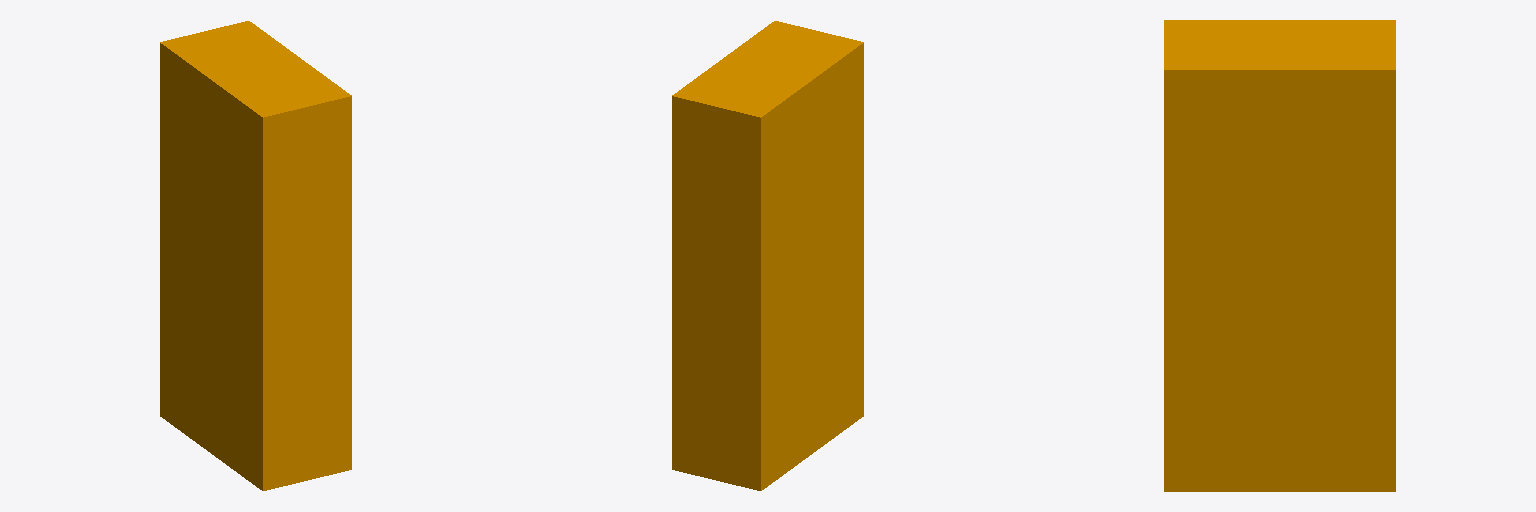
URDF robot description (camera):
<?xml version="1.0" ?>
<robot name="camera">
  <link name="camera__chassis">
    <inertial>
      <mass value="0"/>
      <origin xyz="0 0 0" rpy="0 0 0"/>
      <inertia ixx="0" ixy="0" ixz="0" iyy="0" iyz="0" izz="0"/>
    </inertial>
    <collision name="camera__collision">
      <origin xyz="0  0  0.1" rpy="0 0 0"/>
      <geometry>
        <box size=".1 .2 .4"/>
      </geometry>
    </collision>
    <visual name="camera__visual">
      <origin xyz="0  0  0.1" rpy="0 0 0"/>
      <geometry>
        <box size=".1 .2 .4"/>
      </geometry>
    </visual>
  </link>
</robot>

--- What the picture shows (computed from the rendered views, not written in the file) ---
Views: 3 orthographic renders of the robot side by side, from view 1: azimuth 30°, elevation 25°; view 2: azimuth 150°, elevation 25°; view 3: azimuth 270°, elevation 25°.
Model camera with 1 links and 0 joints (none), rooted at camera__chassis, posed all joints at 0.
Visible links, largest first — view 1: camera__chassis; view 2: camera__chassis; view 3: camera__chassis.
Link boxes in pixels (<box>): camera__chassis: <box>160,21,351,490</box>; camera__chassis: <box>672,21,863,490</box>; camera__chassis: <box>1164,20,1395,491</box>.
Size in the robot's own frame: 0.1 by 0.2 by 0.4 metres.
Geometry: primitives only (box / cylinder / sphere), no mesh files.